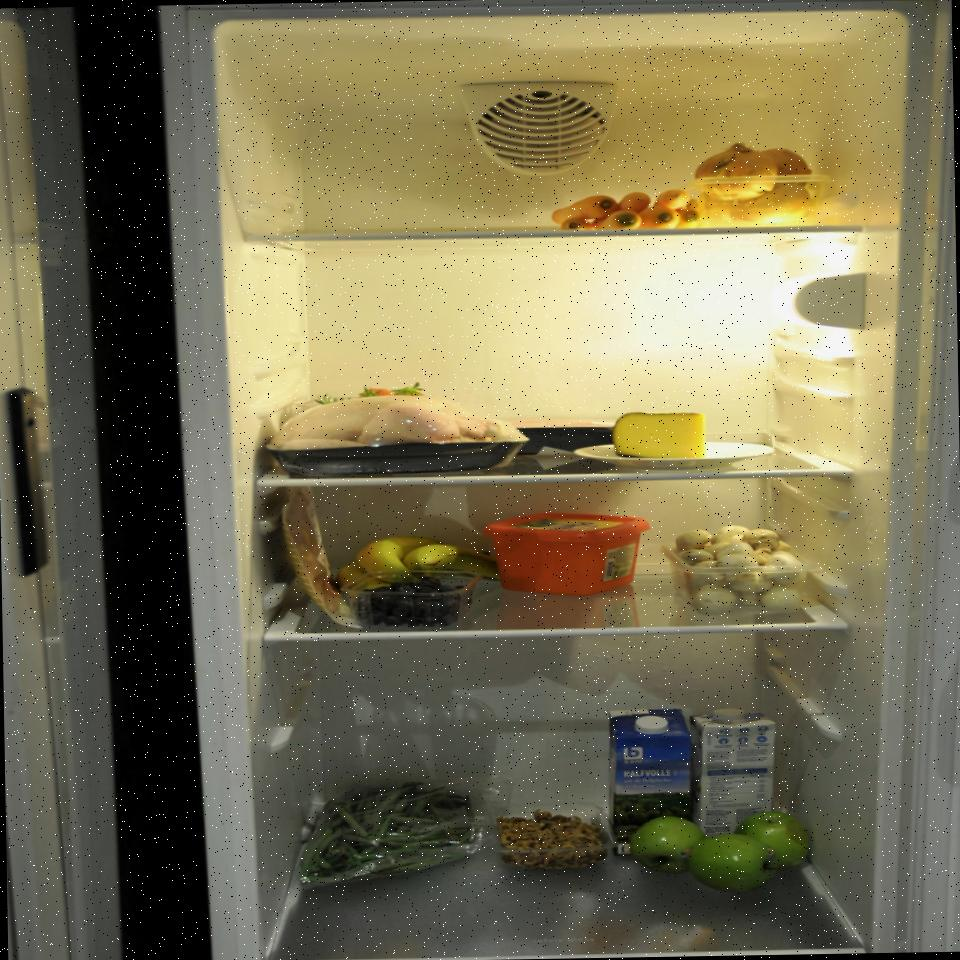Carne pollo: (270, 391, 536, 480)
Leche: (602, 707, 700, 859), (700, 707, 786, 860)
Mantequilla: (481, 505, 652, 598)
Manzana: (627, 809, 816, 894)
Plátano: (332, 527, 510, 597)
Queso: (609, 407, 714, 466)
Zanahoria: (548, 182, 708, 235)
blueberries: (352, 574, 481, 629)
